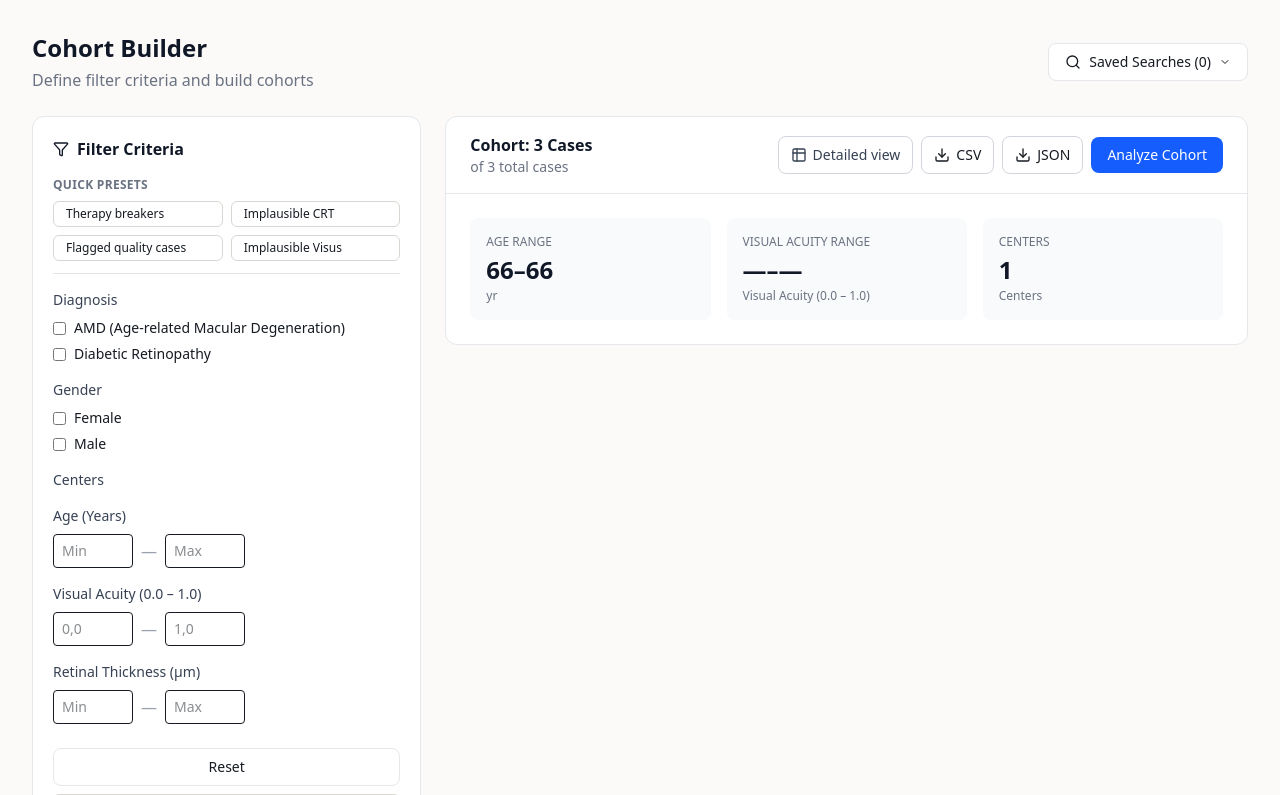
Test: CohortBuilderPage — preset buttons (Task 2) › flaggedQuality preset builds flaggedCaseIds from open qualityFlags
The width and height of the screenshot is (1280, 795).
// Click flaggedQuality preset
Click the button "Flagged quality cases" at (138, 248), box [53,235,223,261]
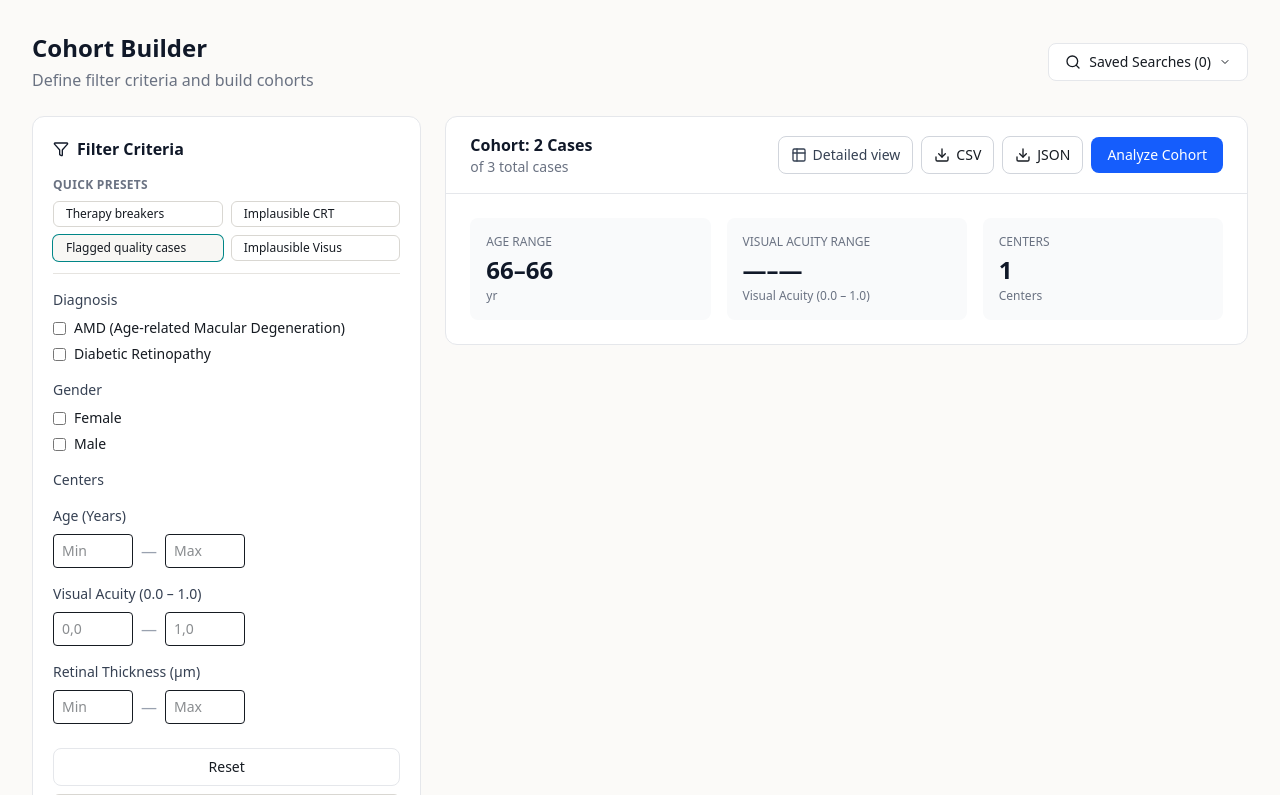
Now the heading "Cohort: 2 Cases" is shown, box [470,133,592,157]
